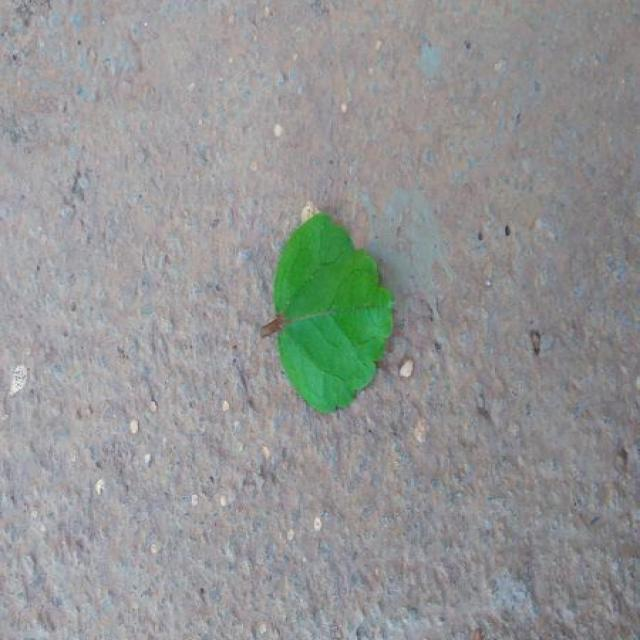Hibiscus: (262, 214, 393, 412)
